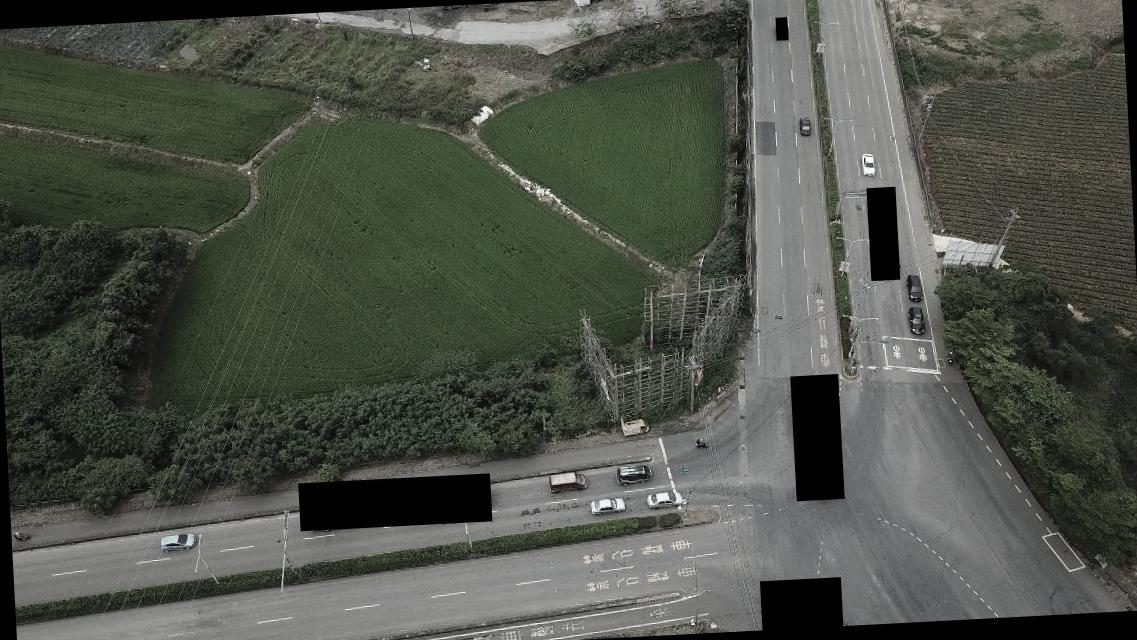vehicle: (543, 468, 589, 493), (586, 496, 627, 518), (616, 461, 652, 486), (646, 488, 683, 512), (156, 532, 198, 553), (904, 272, 924, 308), (622, 413, 652, 436), (905, 306, 926, 338), (858, 148, 876, 176), (797, 114, 815, 141)
